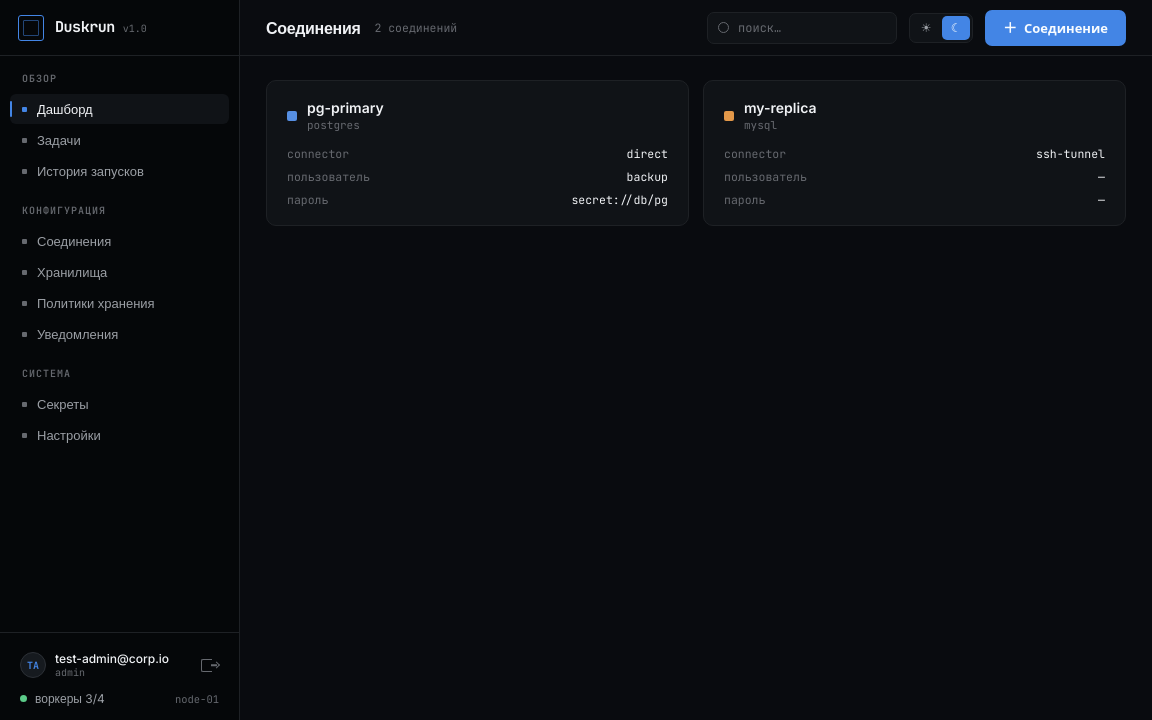
Test case: TestConnectionsListRenders: shows connection cards
The width and height of the screenshot is (1152, 720).
Expected: the text "my-replica" is shown, left=744, top=99, right=816, bottom=116
Expected: the text "backup" is shown, left=627, top=169, right=668, bottom=184
Click the text "pg-primary" at [345, 108], box left=307, top=99, right=384, bottom=116
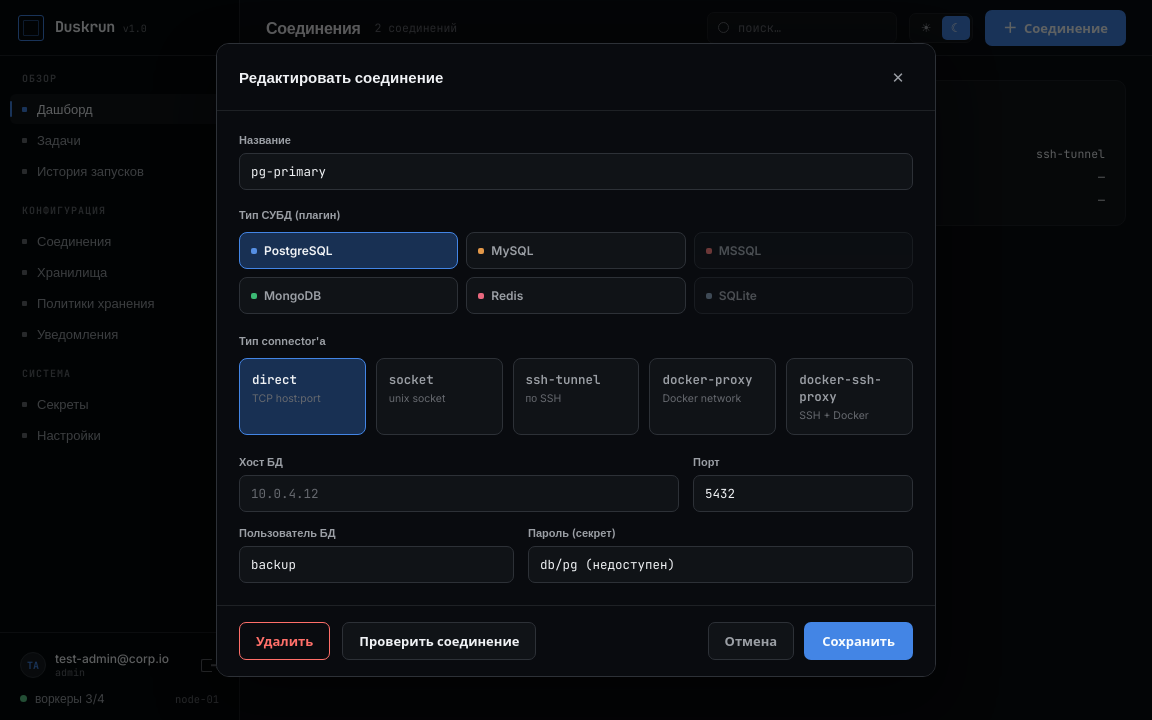
Expected: the text "Редактировать соединение" is shown, left=239, top=68, right=443, bottom=86
Expected: the field showing "backup" is shown, left=239, top=546, right=514, bottom=583
